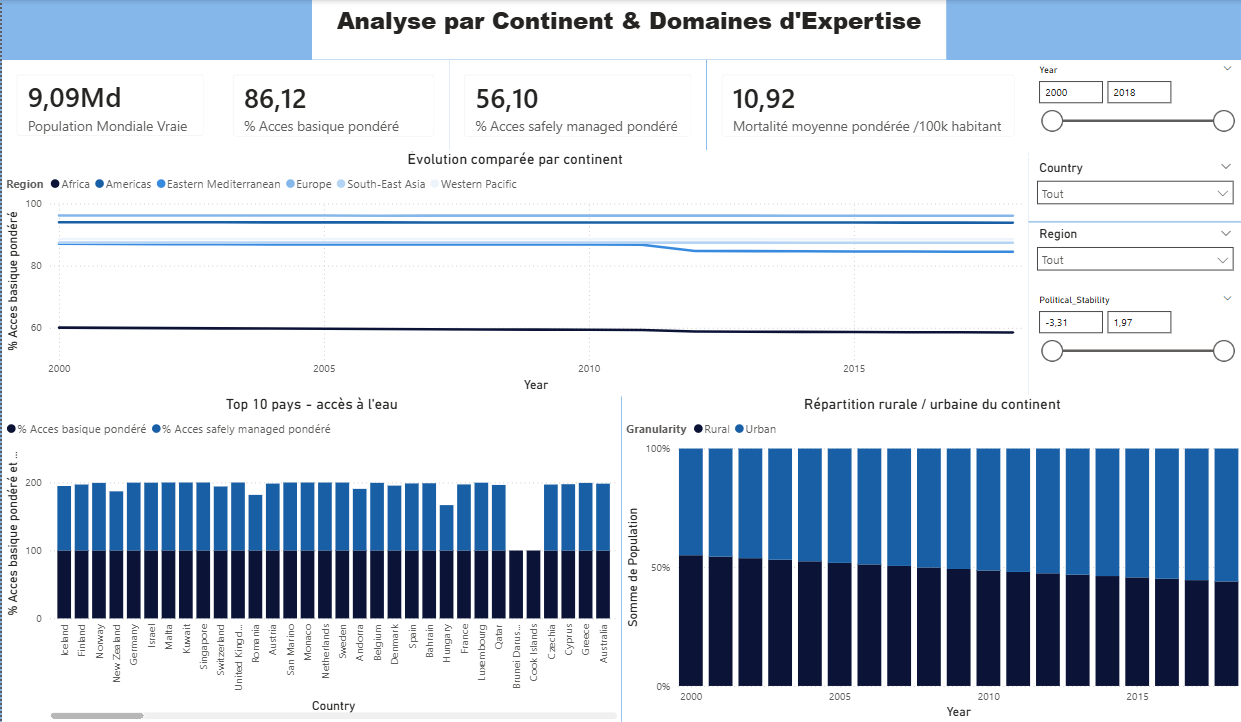

What the dashboard file says about the page in this screenshot:
{"tool":"powerbi","page":{"name":"Vue Continentale","canvas":[1450,846],"ordinal":1},"visuals":[{"type":"textbox","box":[82.3,0,740.9,70.8],"z":0},{"type":"slicer","fields":{"Values":["RegionCountry.Region"]},"box":[1200,259.6,250.3,79.3],"z":1000},{"type":"slicer","fields":{"Values":["PoliticalStability.Political_Stability"]},"box":[1200,338.9,250.3,124.4],"z":2000},{"type":"columnChart","title":"Top 10 pays - accès à l''eau","fields":{"Category":["RegionCountry.Country"],"Y":["Population.% Acces basique pondéré","Population.% Acces safely managed pondéré"]},"box":[0,462.2,725,384.2],"z":3000},{"type":"lineChart","title":"Évolution comparée par continent","fields":{"Category":["Annee.Annee"],"Y":["Population.% Acces basique pondéré"],"Series":["RegionCountry.Region"]},"box":[1.4,177.6,1200.1,290.3],"z":4000},{"type":"hundredPercentStackedColumnChart","title":"Répartition rurale / urbaine du continent","fields":{"Y":["Sum(Population.Population)"],"Series":["Population.Granularity"],"Category":["Annee.Annee"]},"box":[724.4,461.7,725.9,384],"z":5000},{"type":"cardVisual","fields":{"Data":["Population.Population Mondiale Vraie"]},"box":[0,69.3,254.2,114.1],"z":6000},{"type":"cardVisual","fields":{"Data":["Population.% Acces safely managed pondéré"]},"box":[523.3,70.2,301.1,106.7],"z":7000},{"type":"cardVisual","fields":{"Data":["Population.% Acces basique pondéré"]},"box":[252.9,70.2,270.4,106.7],"z":8000},{"type":"cardVisual","fields":{"Data":["MortalityRateAttributedToWater.Mortalité KPI"]},"box":[823.2,69.3,378.4,114.1],"z":9000},{"type":"slicer","fields":{"Values":["Annee.Annee"]},"box":[1200,70,250.3,113.5],"z":10000},{"type":"slicer","fields":{"Values":["RegionCountry.Country"]},"box":[1200,183.4,250.3,76.2],"z":11000},{"type":"pageNavigator","box":[850.6,8.7,599.4,50.5],"z":12000}]}

Visuals, with their boxes in screenshot pixels (x1, y1, x2, y2), scaled from the page's 1450x846 canvas onto the 1241x722 screenshot:
textbox: bbox=(70, 0, 705, 60)
slicer - RegionCountry.Region: bbox=(1027, 222, 1240, 289)
slicer - PoliticalStability.Political_Stability: bbox=(1027, 289, 1240, 395)
"Top 10 pays - accès à l''eau" columnChart: bbox=(0, 394, 620, 721)
"Évolution comparée par continent" lineChart: bbox=(1, 152, 1028, 399)
"Répartition rurale / urbaine du continent" hundredPercentStackedColumnChart: bbox=(620, 394, 1240, 721)
cardVisual - Population.Population Mondiale Vraie: bbox=(0, 59, 218, 157)
cardVisual - Population.% Acces safely managed pondéré: bbox=(448, 60, 706, 151)
cardVisual - Population.% Acces basique pondéré: bbox=(216, 60, 448, 151)
cardVisual - MortalityRateAttributedToWater.Mortalité KPI: bbox=(705, 59, 1028, 157)
slicer - Annee.Annee: bbox=(1027, 60, 1240, 157)
slicer - RegionCountry.Country: bbox=(1027, 157, 1240, 222)
pageNavigator: bbox=(728, 7, 1240, 51)
